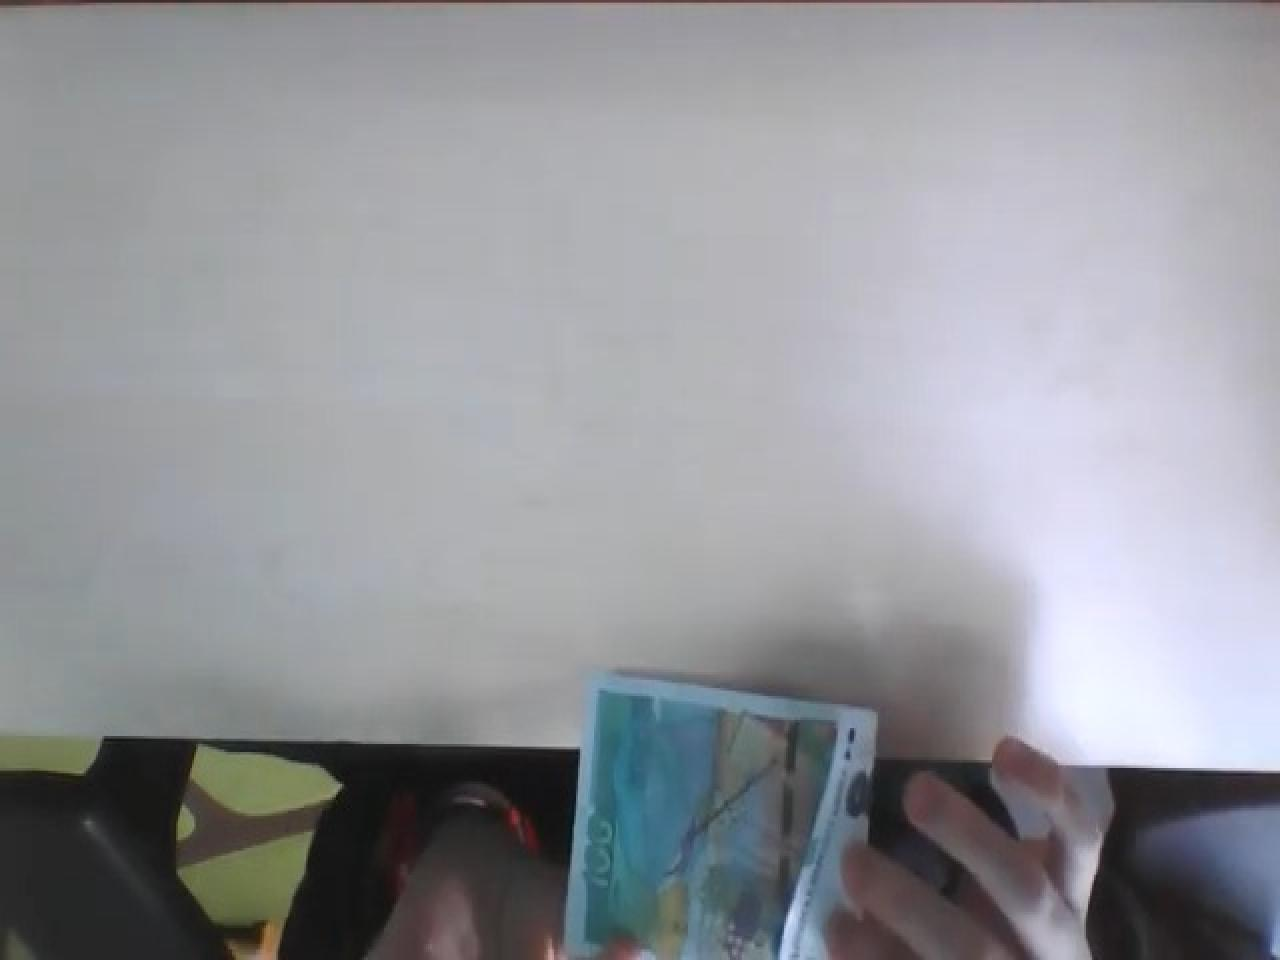100leva: (564, 672, 882, 960)
